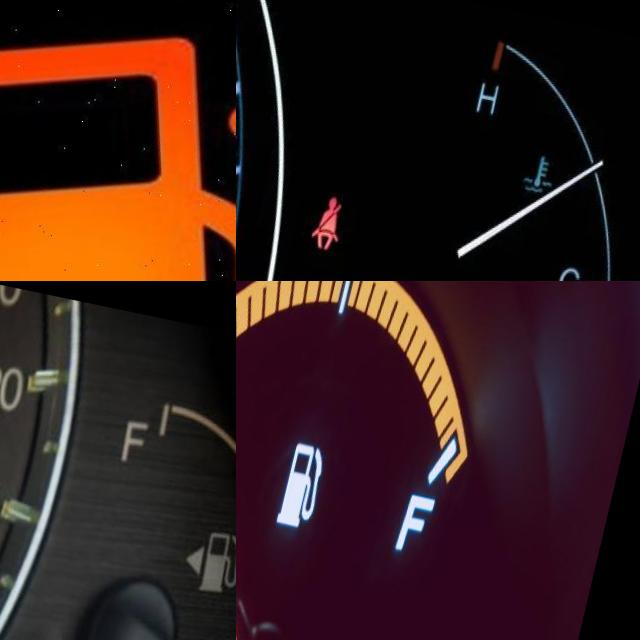Seat Belt: (315, 181, 360, 240)
